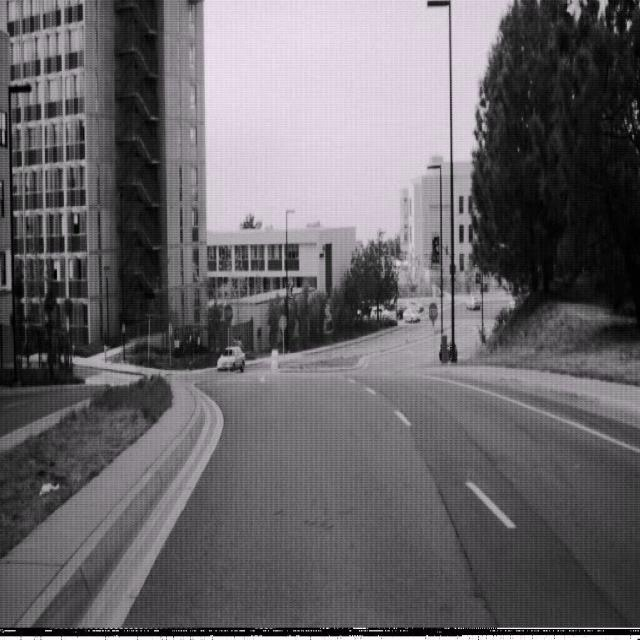stop_sign: (428, 300, 439, 322)
